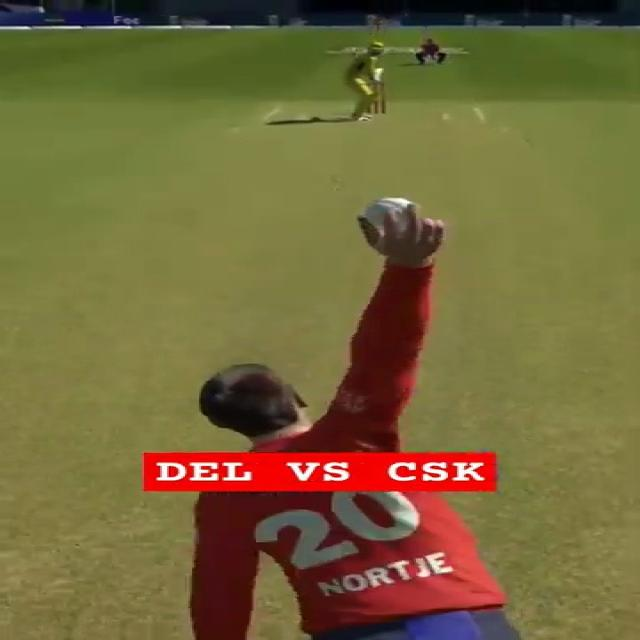ball: (356, 196, 412, 225)
